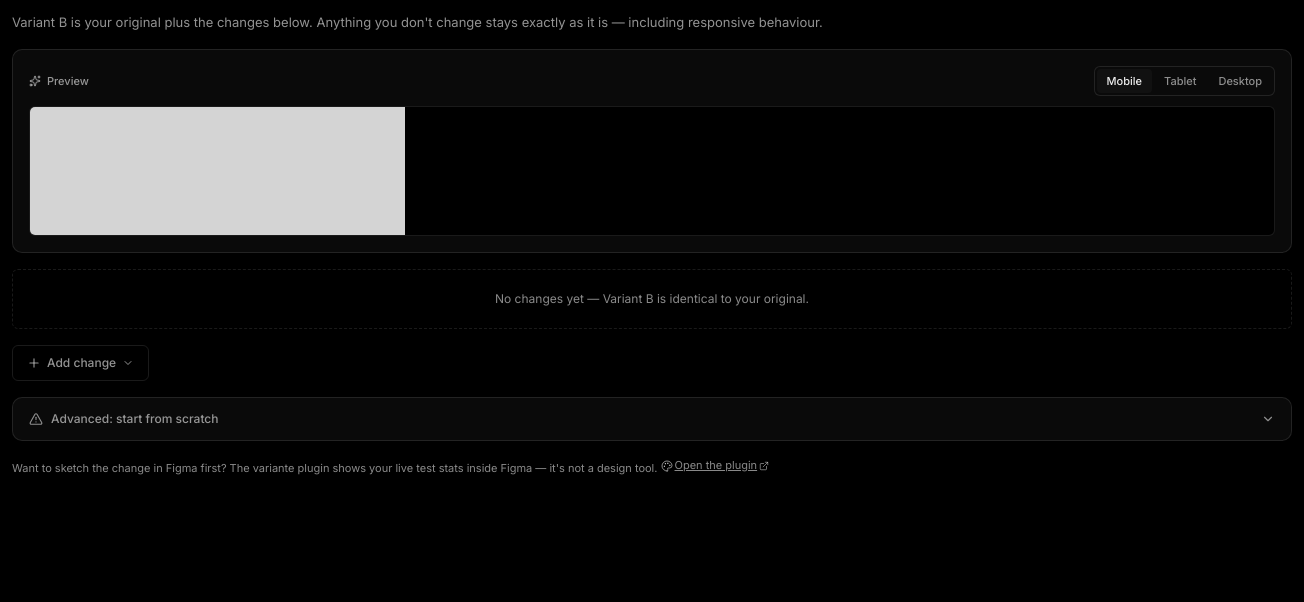
Test case: StepChange — Manual-first › fügt eine manuelle Zeile über das Add-Menü hinzu und öffnet sie inline
Click the button "Add change": point(81, 363) [12,345,149,381]
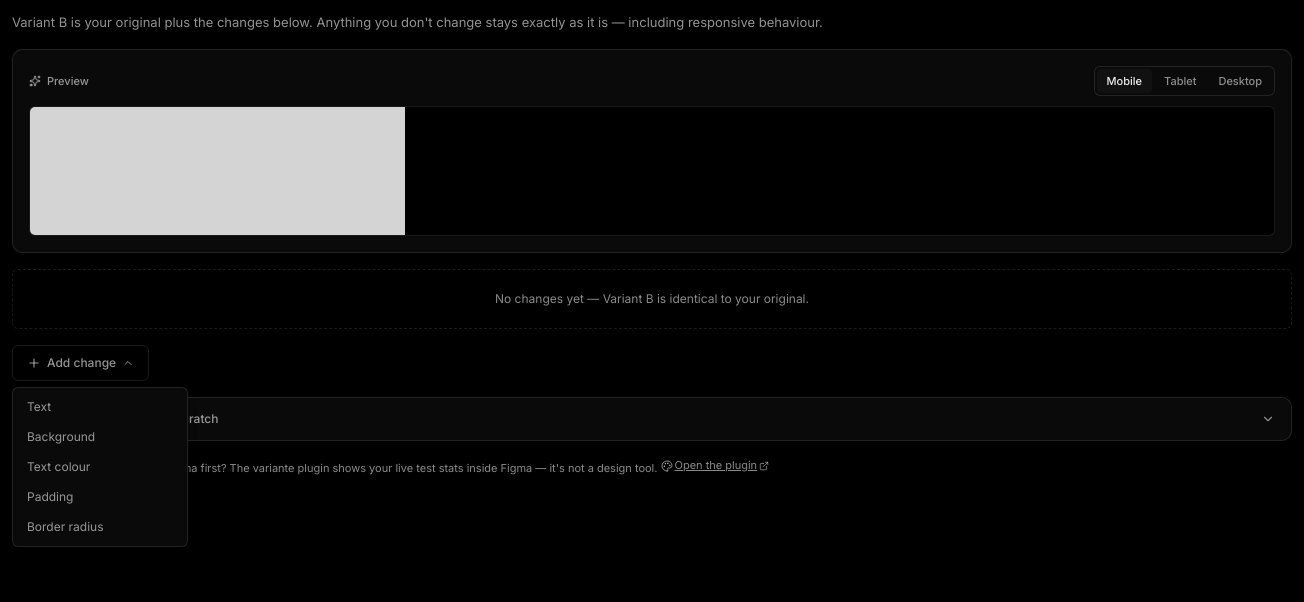
Click the button "Text": point(100, 407) [17,392,183,422]
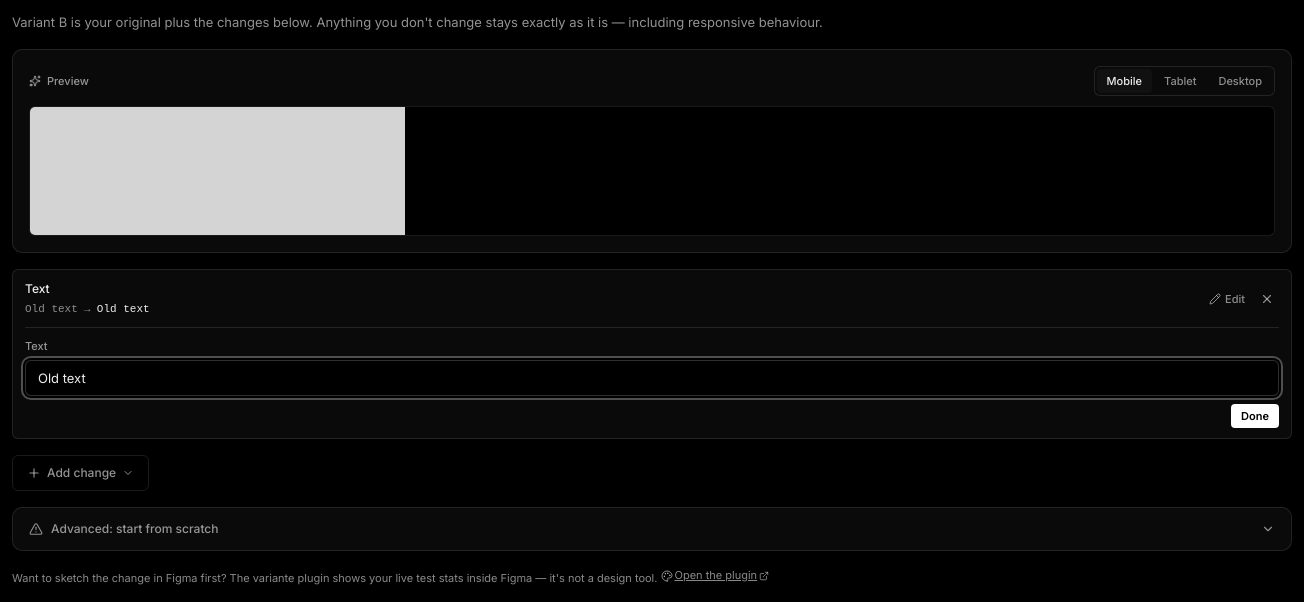
Expected: the field with placeholder "Text" holds "Old text", [25,360,1279,396]
